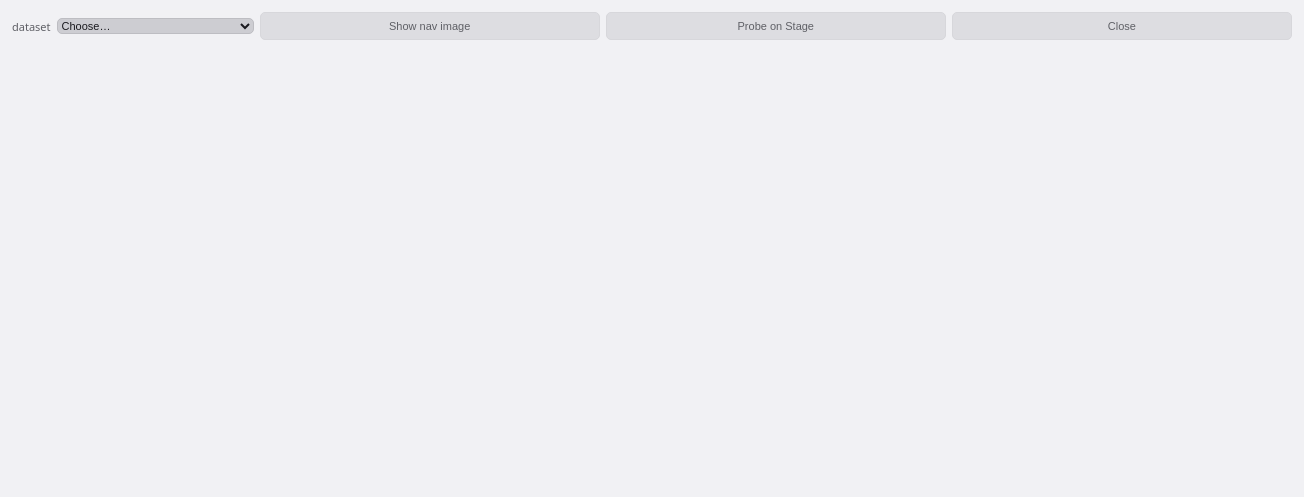
Test case: FourDWorkshop › lists datasets and loads the mean pattern + nav minimap on selection
Select "synthetic.mib (4×5 scan, 64×64 det)" in the dropdown named "4D-STEM dataset" at (155, 26), box [56,18,254,34]
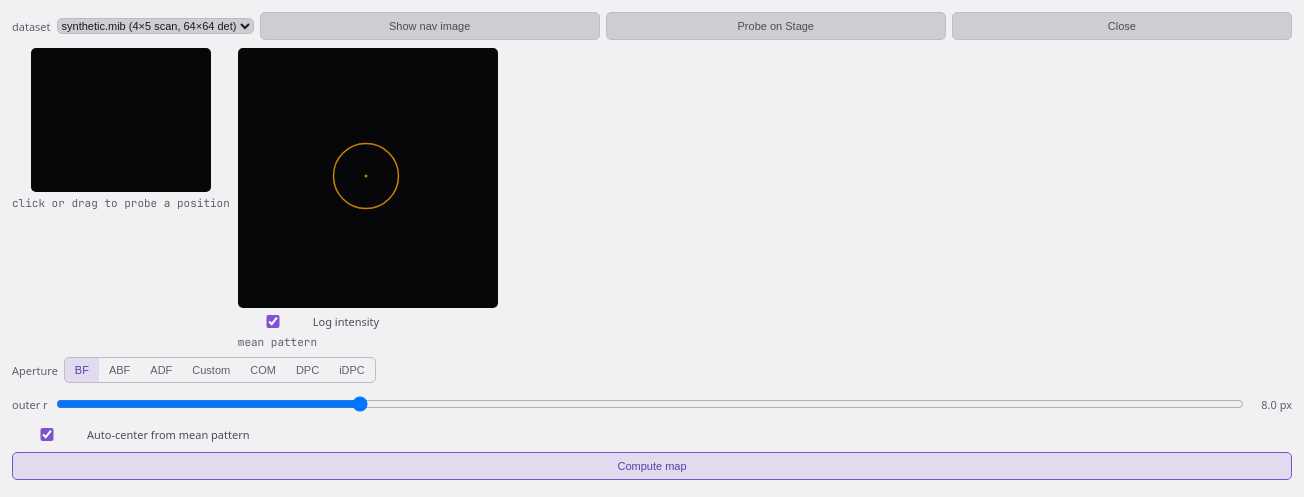
Check: the text "mean pattern" is shown, box [238,335,317,349]
